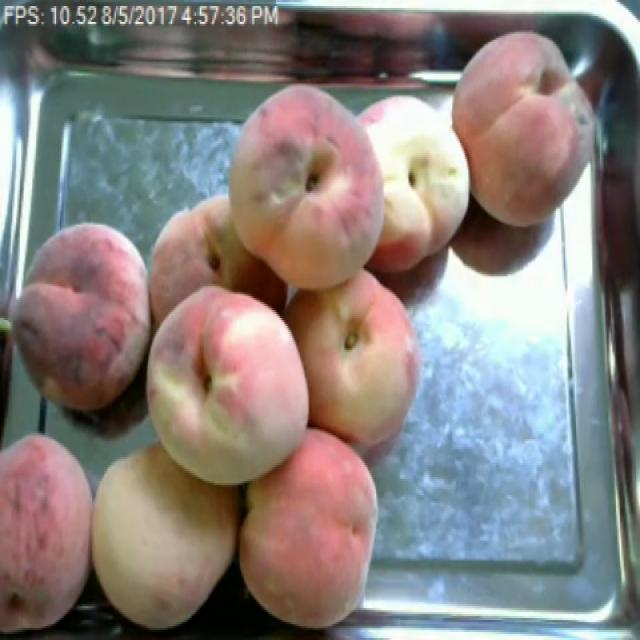Fruit: (142, 270, 326, 513), (220, 78, 400, 300), (239, 411, 396, 640), (445, 16, 603, 240), (1, 215, 152, 435), (0, 413, 139, 640), (92, 423, 237, 640), (289, 257, 435, 461)
